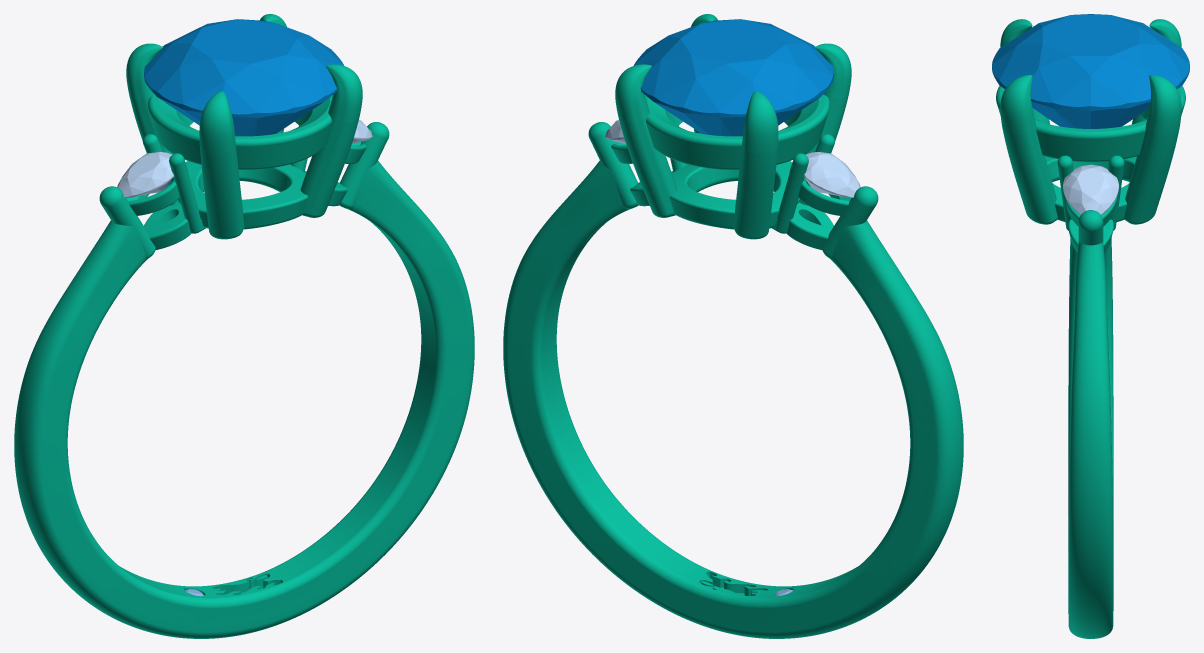
File: ring4.glb
3 views of the same model, side by side, from view 1: azimuth 30°, elevation 25°; view 2: azimuth 150°, elevation 25°; view 3: azimuth 270°, elevation 25° (orthographic).
Parts seen in each view (by area): view 1: gold.3dm, Diamond_Round, Diamond_Pear; view 2: gold.3dm, Diamond_Round, Diamond_Pear; view 3: gold.3dm, Diamond_Round, Diamond_Pear.
Boxes of the visible parts, x1,y1,x2,y2 form: gold.3dm: [14, 14, 474, 638]; Diamond_Round: [144, 19, 343, 136]; Diamond_Pear: [117, 152, 173, 197]; gold.3dm: [503, 14, 963, 638]; Diamond_Round: [633, 19, 833, 136]; Diamond_Pear: [804, 152, 860, 197]; gold.3dm: [996, 19, 1185, 638]; Diamond_Round: [992, 14, 1189, 128]; Diamond_Pear: [1063, 164, 1118, 214].
Bounding box in the file's own units: 2.43 × 3.03 × 0.9386.
